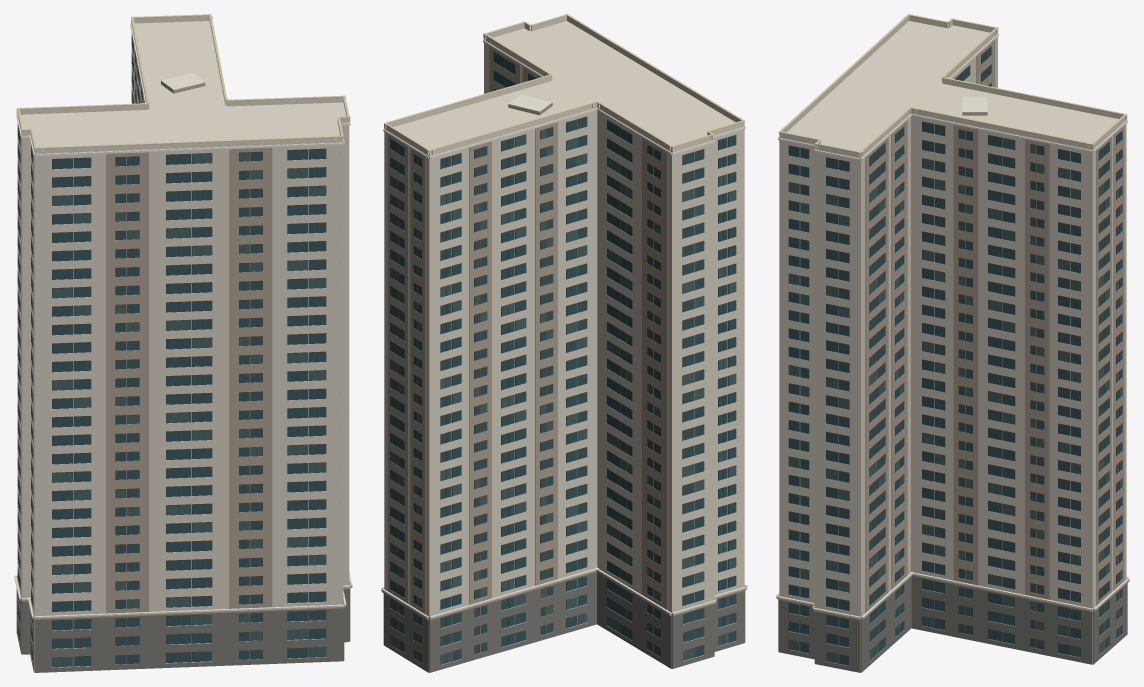
The model's file is bespoke-raemian-prestige-117.glb.
The picture shows the model from 3 angles, left to right: view 1: azimuth 30°, elevation 25°; view 2: azimuth 150°, elevation 25°; view 3: azimuth 270°, elevation 25°; orthographic projection.
Parts seen in each view (by area): view 1: Prestige_warm_ivory_rendered_wall003, Prestige_recessed_blue_green_window003, Prestige_wide_taupe_pilasters003, Prestige_dark_bronze_thin_window_frame003, Prestige_dark_brown_grey_stone_base003, Prestige_muted_green_window_pair003, Prestige_pale_limestone_band003, Prestige_cream_gold_crown_coping003; view 2: Prestige_warm_ivory_rendered_wall003, Prestige_recessed_blue_green_window003, Prestige_wide_taupe_pilasters003, Prestige_dark_bronze_thin_window_frame003, Prestige_dark_brown_grey_stone_base003, Prestige_muted_green_window_pair003, Prestige_pale_limestone_band003, Prestige_cream_gold_crown_coping003; view 3: Prestige_warm_ivory_rendered_wall003, Prestige_wide_taupe_pilasters003, Prestige_recessed_blue_green_window003, Prestige_dark_bronze_thin_window_frame003, Prestige_dark_brown_grey_stone_base003, Prestige_muted_green_window_pair003, Prestige_pale_limestone_band003, Prestige_cream_gold_crown_coping003.
Boxes of the visible parts, x1,y1,x2,y2 form: Prestige_warm_ivory_rendered_wall003: [17, 16, 349, 672]; Prestige_recessed_blue_green_window003: [17, 35, 325, 666]; Prestige_wide_taupe_pilasters003: [19, 49, 352, 664]; Prestige_dark_bronze_thin_window_frame003: [17, 34, 326, 667]; Prestige_dark_brown_grey_stone_base003: [16, 577, 350, 672]; Prestige_muted_green_window_pair003: [17, 72, 325, 667]; Prestige_pale_limestone_band003: [14, 18, 352, 618]; Prestige_cream_gold_crown_coping003: [16, 14, 350, 149]; Prestige_warm_ivory_rendered_wall003: [384, 16, 744, 665]; Prestige_recessed_blue_green_window003: [390, 52, 735, 662]; Prestige_wide_taupe_pilasters003: [381, 46, 747, 663]; Prestige_dark_bronze_thin_window_frame003: [390, 52, 736, 664]; Prestige_dark_brown_grey_stone_base003: [383, 572, 745, 672]; Prestige_muted_green_window_pair003: [390, 89, 735, 664]; Prestige_pale_limestone_band003: [381, 30, 747, 618]; Prestige_cream_gold_crown_coping003: [384, 14, 744, 151]; Prestige_warm_ivory_rendered_wall003: [779, 16, 1126, 672]; Prestige_wide_taupe_pilasters003: [776, 39, 1129, 660]; Prestige_recessed_blue_green_window003: [789, 47, 1122, 665]; Prestige_dark_bronze_thin_window_frame003: [788, 46, 1122, 663]; Prestige_dark_brown_grey_stone_base003: [778, 576, 1127, 672]; Prestige_muted_green_window_pair003: [789, 138, 1122, 663]; Prestige_pale_limestone_band003: [776, 27, 1129, 618]; Prestige_cream_gold_crown_coping003: [778, 14, 1127, 153].
Size of the model in its own units: 46.08 by 79.3 by 48.86.
